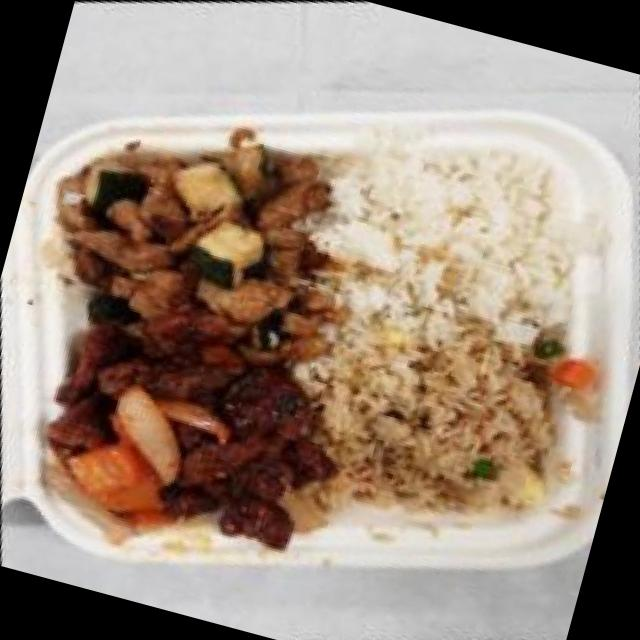Beijing Beef: (0, 260, 390, 617)
Fried Rice: (278, 269, 617, 579)
Kung Pao Chicken: (2, 76, 366, 396)
White Steamed Rice: (272, 68, 636, 394)
